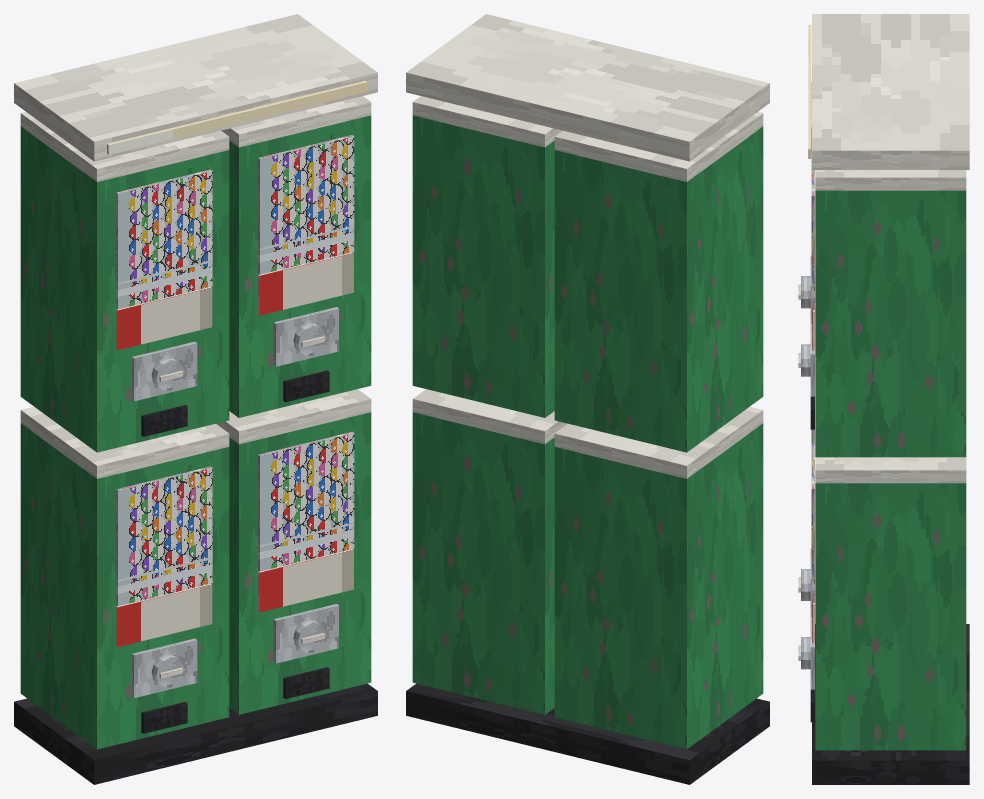
The model's file is route_machine_green.glb.
The picture shows the model from 3 angles, left to right: view 1: azimuth 30°, elevation 25°; view 2: azimuth 150°, elevation 25°; view 3: azimuth 270°, elevation 25°; orthographic projection.
Parts seen in each view (by area): view 1: Cube; view 2: Cube; view 3: Cube.
Part boxes in pixels (<box>): Cube: <box>14,14,377,784</box>; Cube: <box>406,14,769,784</box>; Cube: <box>798,14,969,784</box>.
Size of the model in its own units: 0.9 by 1.95 by 0.478.
7 materials, 7 textured.
